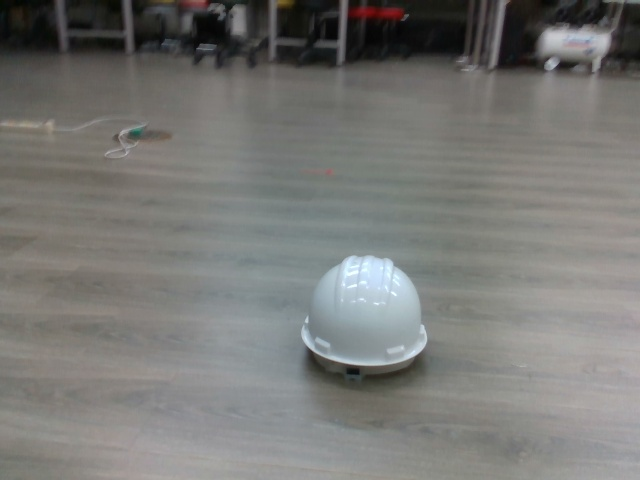helmet: (301, 252, 433, 377)
